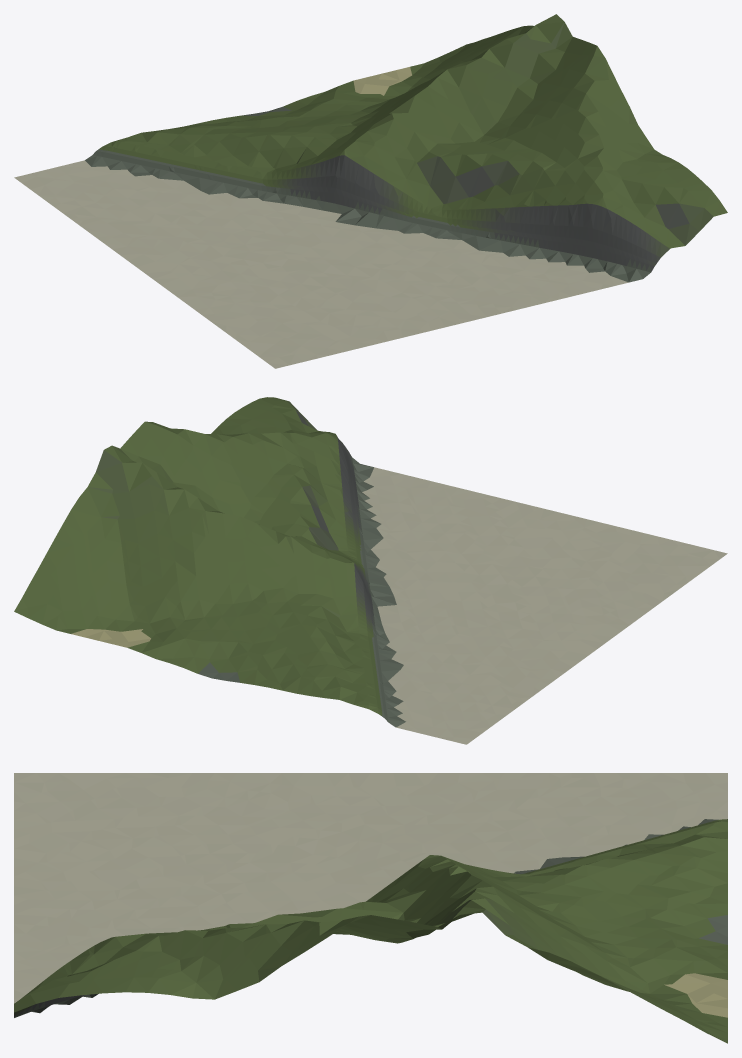
Rendered from Ground_-4_-4.glb.
The picture shows the model from 3 angles, top to bottom: view 1: azimuth 30°, elevation 25°; view 2: azimuth 150°, elevation 25°; view 3: azimuth 270°, elevation 25°; orthographic projection. The views are drawn at different scales.
Parts seen in each view (by area): view 1: Ground_-4_-4; view 2: Ground_-4_-4; view 3: Ground_-4_-4.
Part boxes in pixels (box(x1,y1,x2,y2)): Ground_-4_-4: box(14, 14, 727, 368); Ground_-4_-4: box(14, 397, 727, 744); Ground_-4_-4: box(14, 773, 727, 1043).
Bounding box in the file's own units: 768 × 193 × 768.
